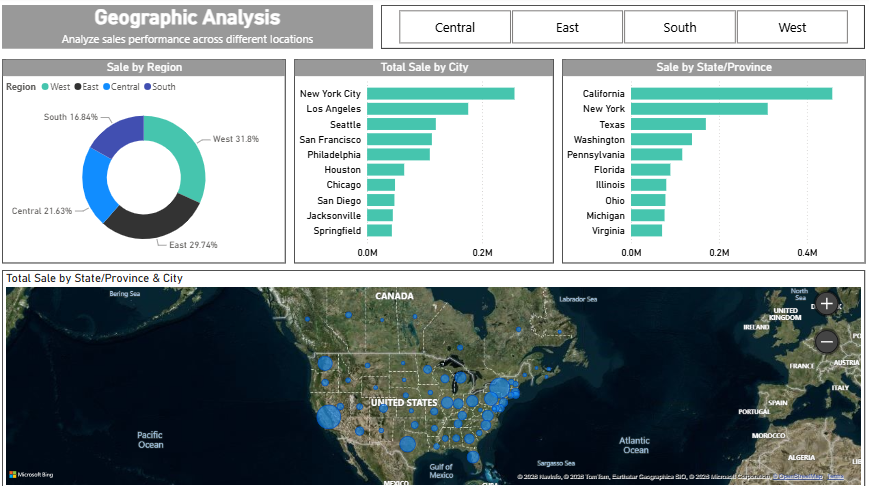

What the dashboard file says about the page in this screenshot:
{"tool":"powerbi","page":{"name":"Geographic Analysis","canvas":[1280,720],"ordinal":3},"visuals":[{"type":"clusteredBarChart","fields":{"Y":["Orders.Total Sale"],"Category":["Orders.City"]},"box":[433.2,90.6,380.4,298.9],"z":0},{"type":"donutChart","title":"Sale by Region","fields":{"Category":["Orders.Region"],"Y":["Orders.Total Sale"]},"box":[6,90.6,415.1,298.9],"z":1000},{"type":"clusteredBarChart","title":"Sale by State/Province","fields":{"Category":["Orders.State/Province"],"Y":["Orders.Total Sale"]},"box":[825.7,90.6,443.8,298.9],"z":2000},{"type":"textbox","title":"Geographic Analysis","box":[5.9,0,542.9,76.1],"z":3000},{"type":"map","title":"Total Sale by State/Province & City","fields":{"Size":["Orders.Total Sale"],"Category":["Orders.State/Province","Orders.Country/Region","Orders.City"]},"box":[5.9,399.5,1262.9,320.5],"z":4000},{"type":"slicer","fields":{"Values":["Orders.Region"]},"box":[560,0,692.8,75.5],"z":5000}]}

Visuals, with their boxes in screenshot pixels (x1, y1, x2, y2), scaled from the page's 1280x720 canvas onto the 869x486 screenshot:
clusteredBarChart - Orders.Total Sale x Orders.City: {"left": 294, "top": 61, "right": 552, "bottom": 263}
"Sale by Region" donutChart: {"left": 4, "top": 61, "right": 286, "bottom": 263}
"Sale by State/Province" clusteredBarChart: {"left": 561, "top": 61, "right": 862, "bottom": 263}
"Geographic Analysis" textbox: {"left": 4, "top": 0, "right": 373, "bottom": 51}
"Total Sale by State/Province & City" map: {"left": 4, "top": 270, "right": 861, "bottom": 485}
slicer - Orders.Region: {"left": 380, "top": 0, "right": 851, "bottom": 51}
